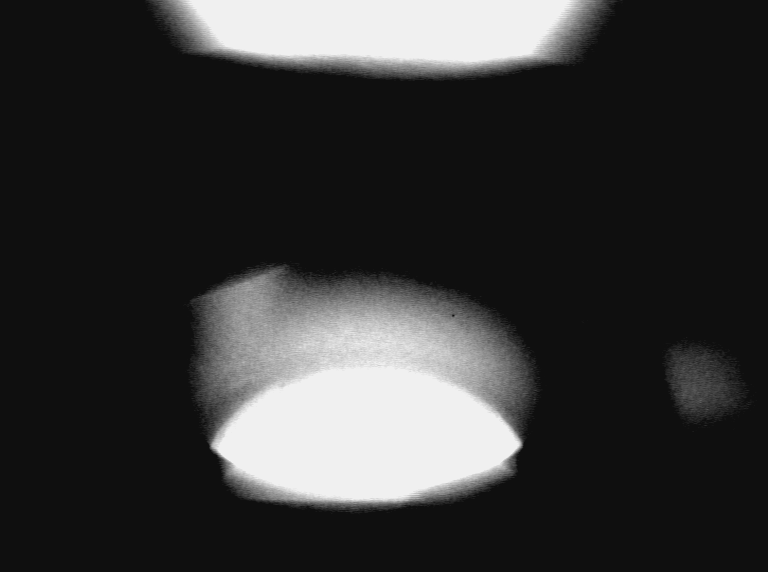defect: (193, 253, 296, 347)
